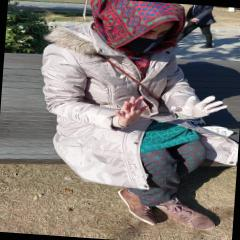gloved: (172, 94, 230, 123)
not-gloved: (116, 94, 151, 126)
